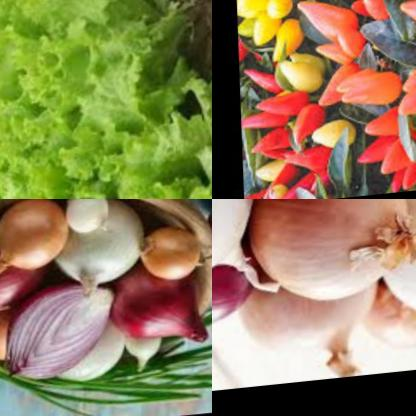hot pepper: (234, 47, 342, 199), (286, 0, 389, 123), (232, 0, 314, 93), (344, 111, 416, 199), (380, 0, 416, 152), (313, 0, 416, 32)
onion: (223, 199, 414, 314), (233, 277, 375, 378), (0, 283, 123, 388), (106, 276, 212, 362), (57, 206, 143, 308), (0, 199, 70, 290), (372, 199, 416, 330), (62, 331, 135, 398), (0, 234, 52, 324), (362, 285, 416, 369), (133, 230, 205, 292), (212, 255, 256, 339), (64, 199, 126, 249), (117, 324, 165, 384), (0, 304, 24, 373)
salad: (0, 0, 212, 199)
